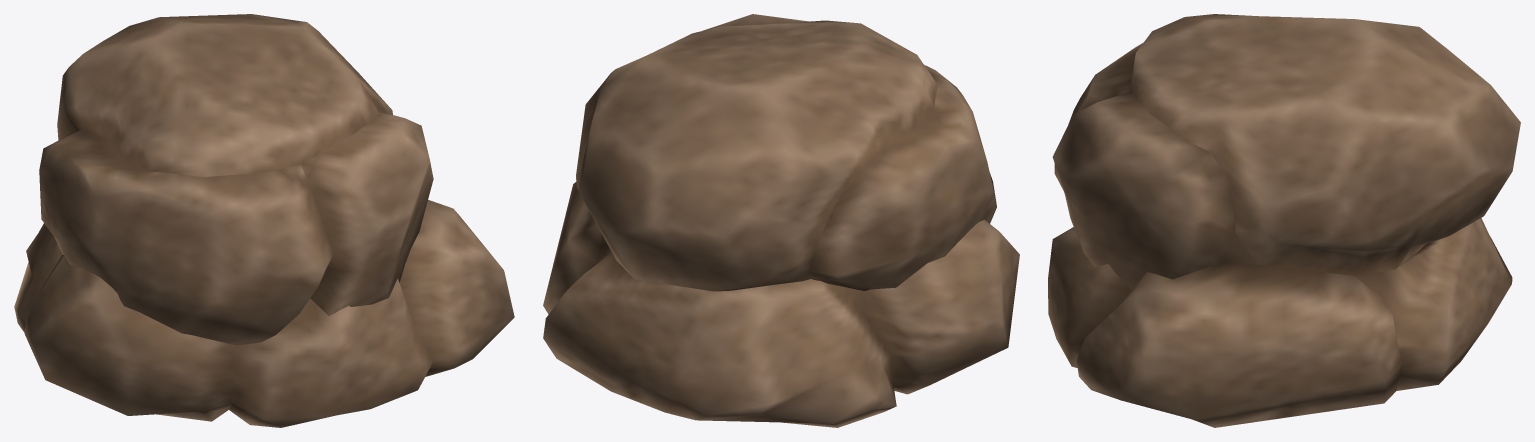
File: sb_obj_nature006_Stone01e.fbx
3 renders of one model, left to right at view 1: azimuth 30°, elevation 25°; view 2: azimuth 150°, elevation 25°; view 3: azimuth 270°, elevation 25°, orthographic. The views are drawn at different scales.
Visible parts, largest first — view 1: sb_obj_nature006_Stone01e; view 2: sb_obj_nature006_Stone01e; view 3: sb_obj_nature006_Stone01e.
Boxes of the visible parts, x1,y1,x2,y2 form: sb_obj_nature006_Stone01e: (14,14,514,427); sb_obj_nature006_Stone01e: (543,14,1019,427); sb_obj_nature006_Stone01e: (1048,14,1520,427).
Bounding box in the file's own units: 0.5374 × 0.347 × 0.5011.
